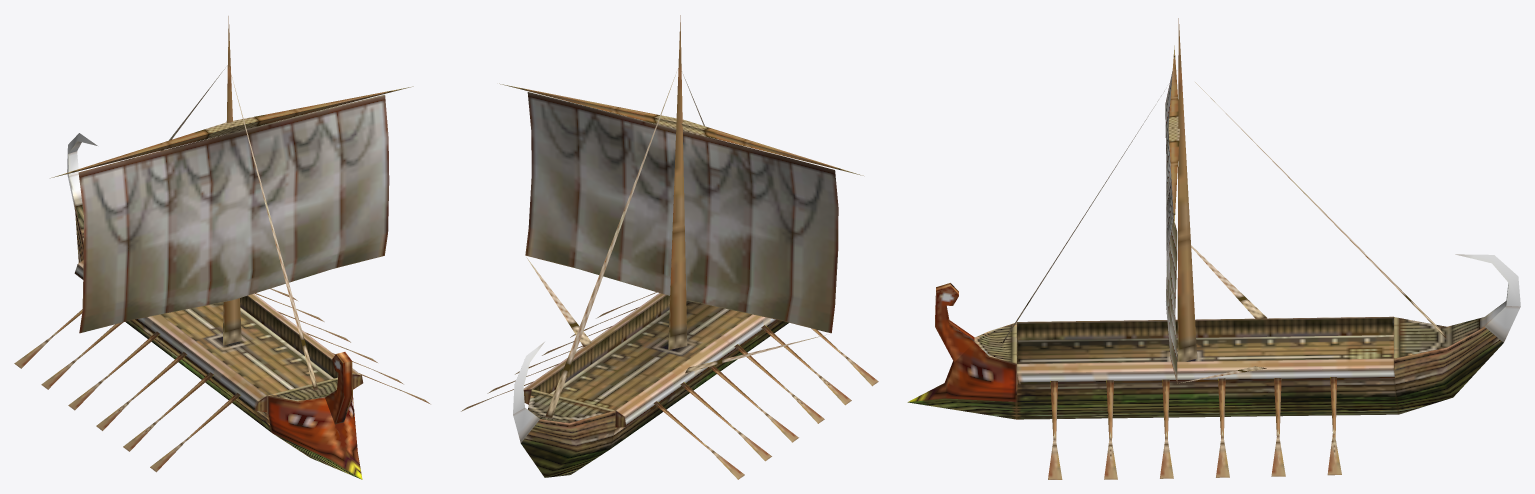
File: trireme_base.glb
3 renders of one model, left to right at view 1: azimuth 30°, elevation 25°; view 2: azimuth 150°, elevation 25°; view 3: azimuth 270°, elevation 25°, orthographic. The views are drawn at different scales.
Parts seen in each view (by area): view 1: MeshRoot; view 2: MeshRoot; view 3: MeshRoot.
Part boxes in pixels (x1,y1,x2,y2): MeshRoot: (14, 16, 430, 479); MeshRoot: (461, 15, 878, 479); MeshRoot: (907, 18, 1520, 479).
Bounding box in the file's own units: 5.7 × 5.76 × 7.94.
Materials: 3 (3 with a texture image).
